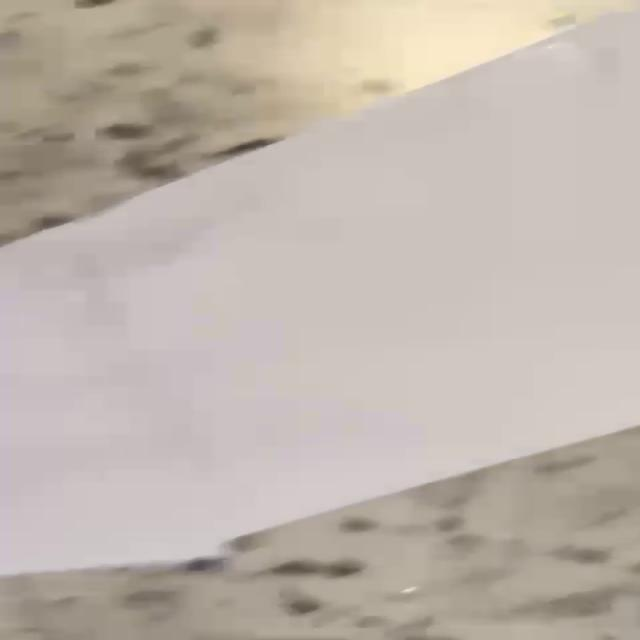road: (0, 12, 640, 578)
